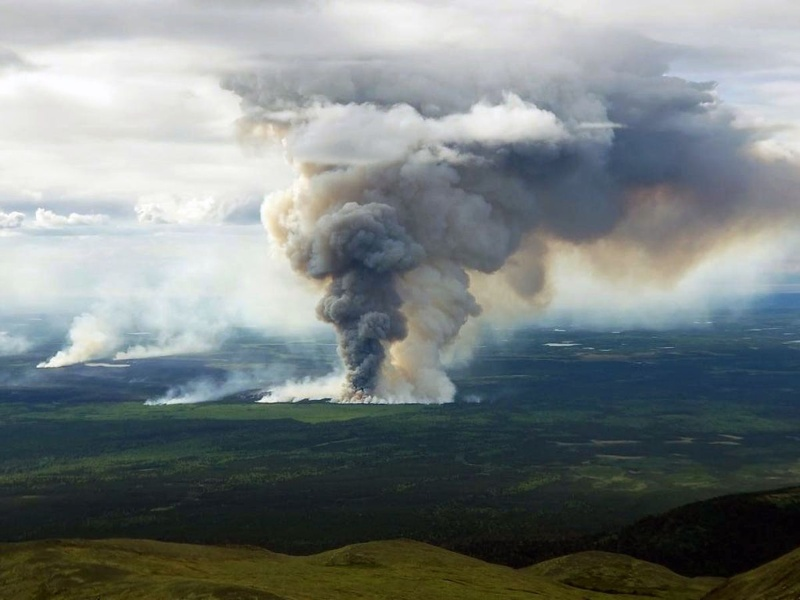smoke: (235, 71, 561, 344)
